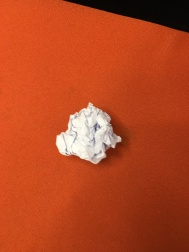paper_white: (45, 93, 126, 176)
